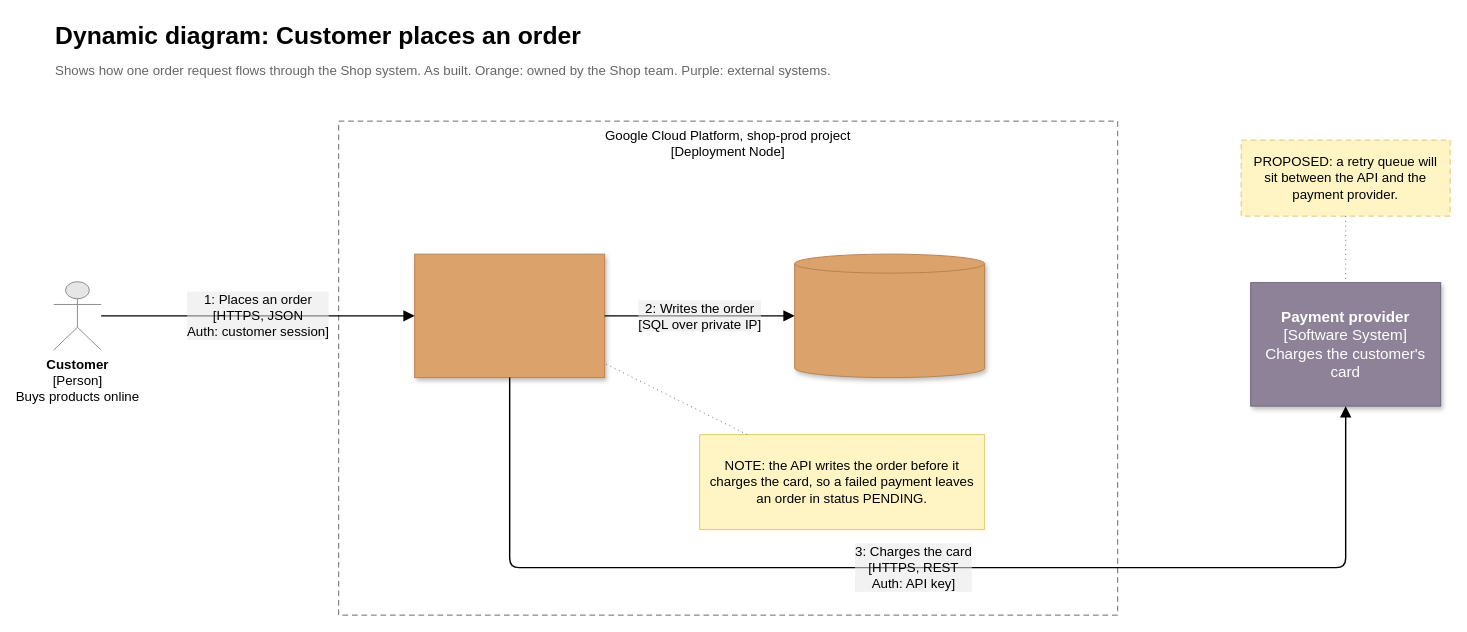
Image size: 1467x632. Some labels were removed from this diagram. Each missing label, with the centre of its shape:
Order API [Container: Cloud Run, Python] Validates and stores orders: (x=510, y=316)
Order database [Container: Cloud SQL, PostgreSQL] Stores orders and their status: (x=890, y=316)
